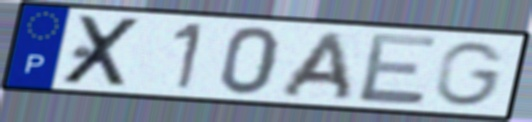0: (215, 24, 284, 97)
1: (169, 22, 205, 92)
A: (275, 29, 356, 103)
E: (355, 30, 441, 106)
G: (433, 39, 510, 109)
X: (57, 13, 147, 89)
